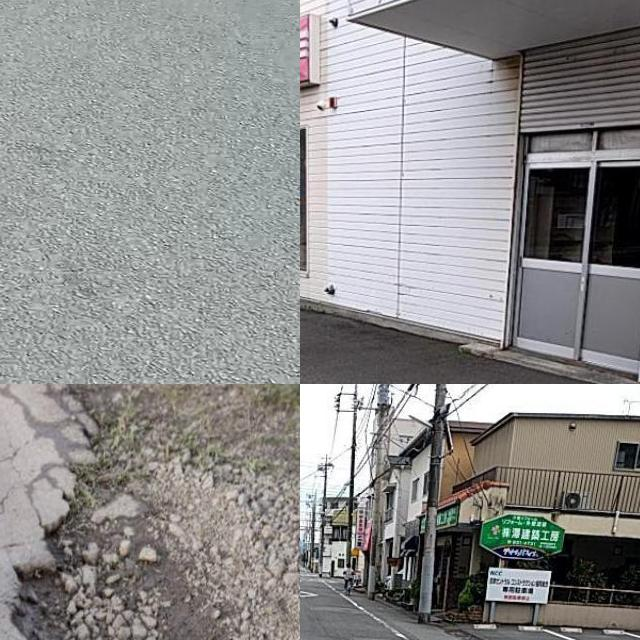Pinggir: (0, 422, 269, 640)
